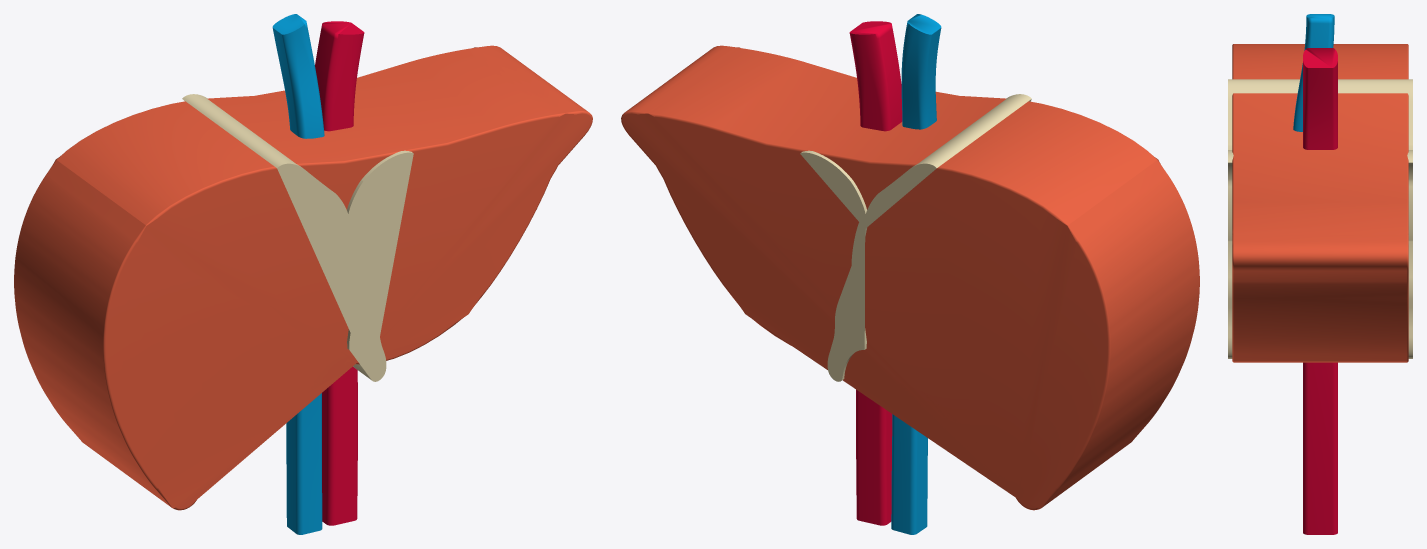
File: Liver - V3.fbx
3 renders of one model, left to right at view 1: azimuth 30°, elevation 25°; view 2: azimuth 150°, elevation 25°; view 3: azimuth 270°, elevation 25°, orthographic. The views are drawn at different scales.
Parts seen in each view (by area): view 1: Liver; view 2: Liver; view 3: Liver.
Part boxes in pixels (x1,y1,x2,y2): Liver: (14,14,592,534); Liver: (621,14,1199,534); Liver: (1228,14,1412,534).
Bounding box in the file's own units: 436 × 435 × 147.
